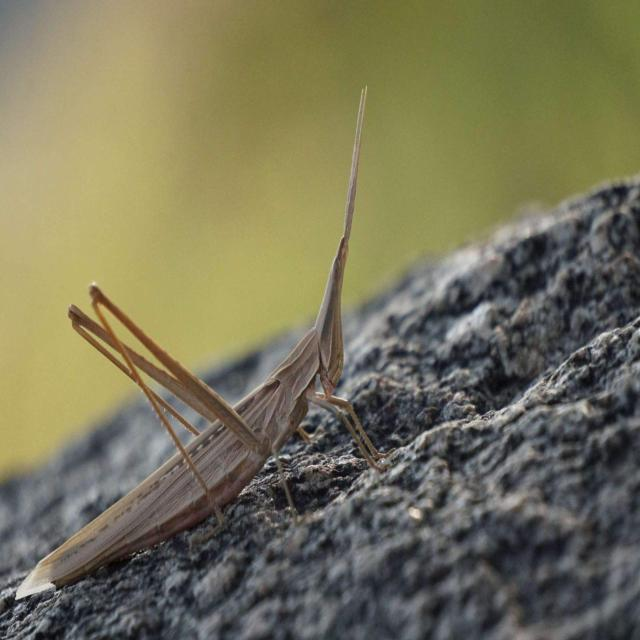ZhaMeng: (16, 80, 398, 609)
